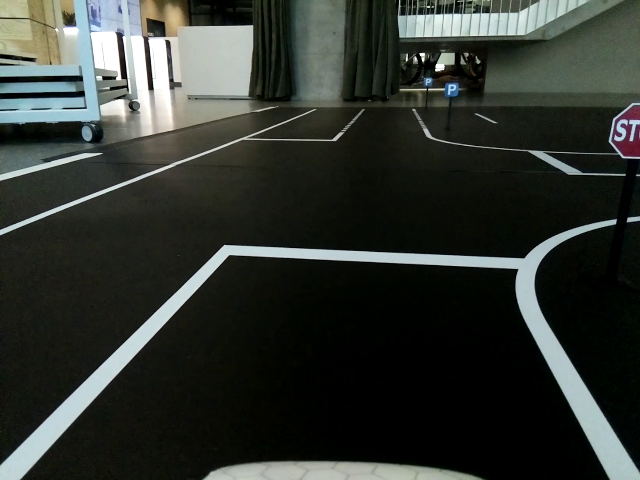stop: (609, 102, 640, 155)
